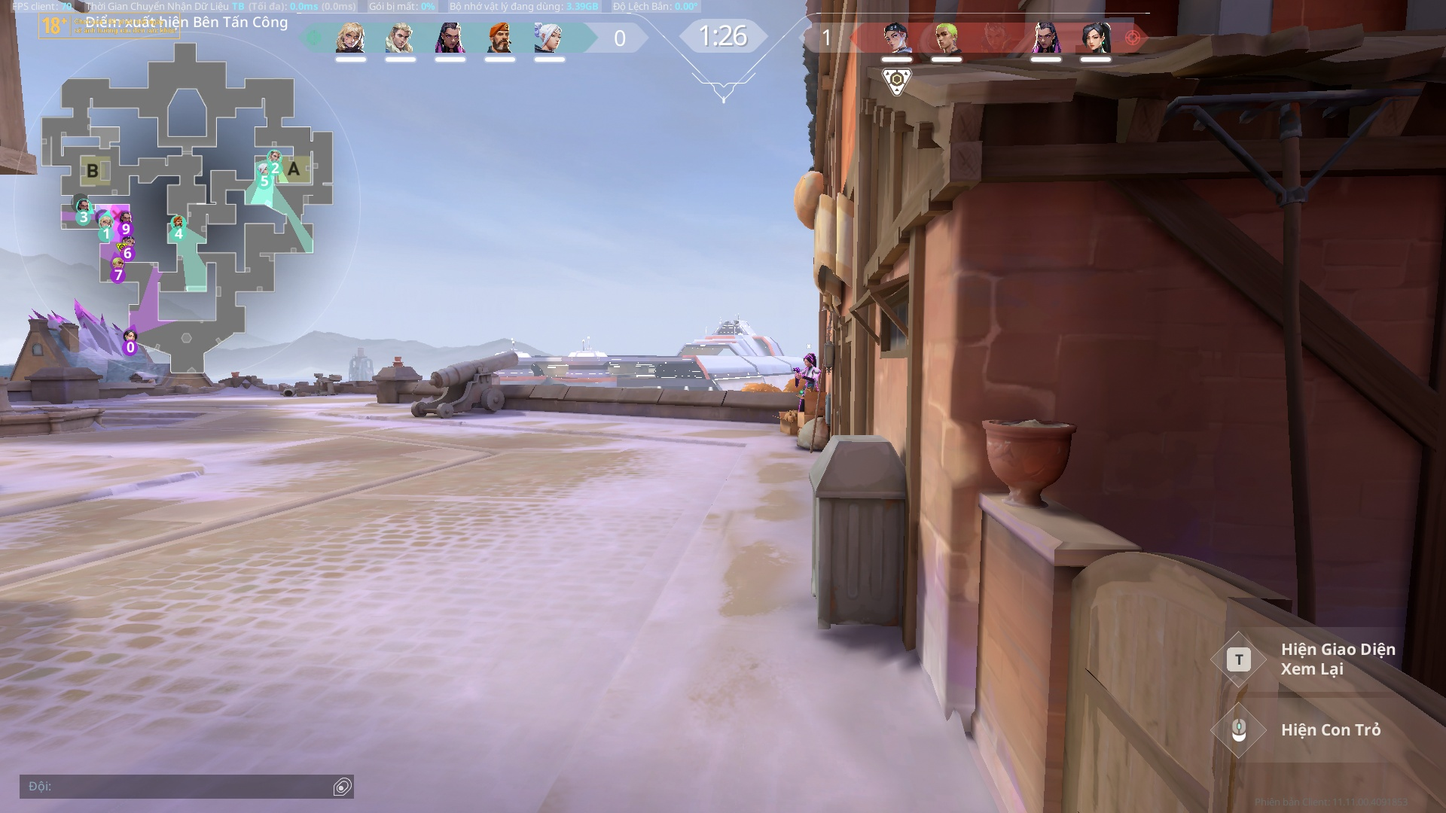body: (801, 366, 819, 386)
head: (802, 355, 818, 366)
